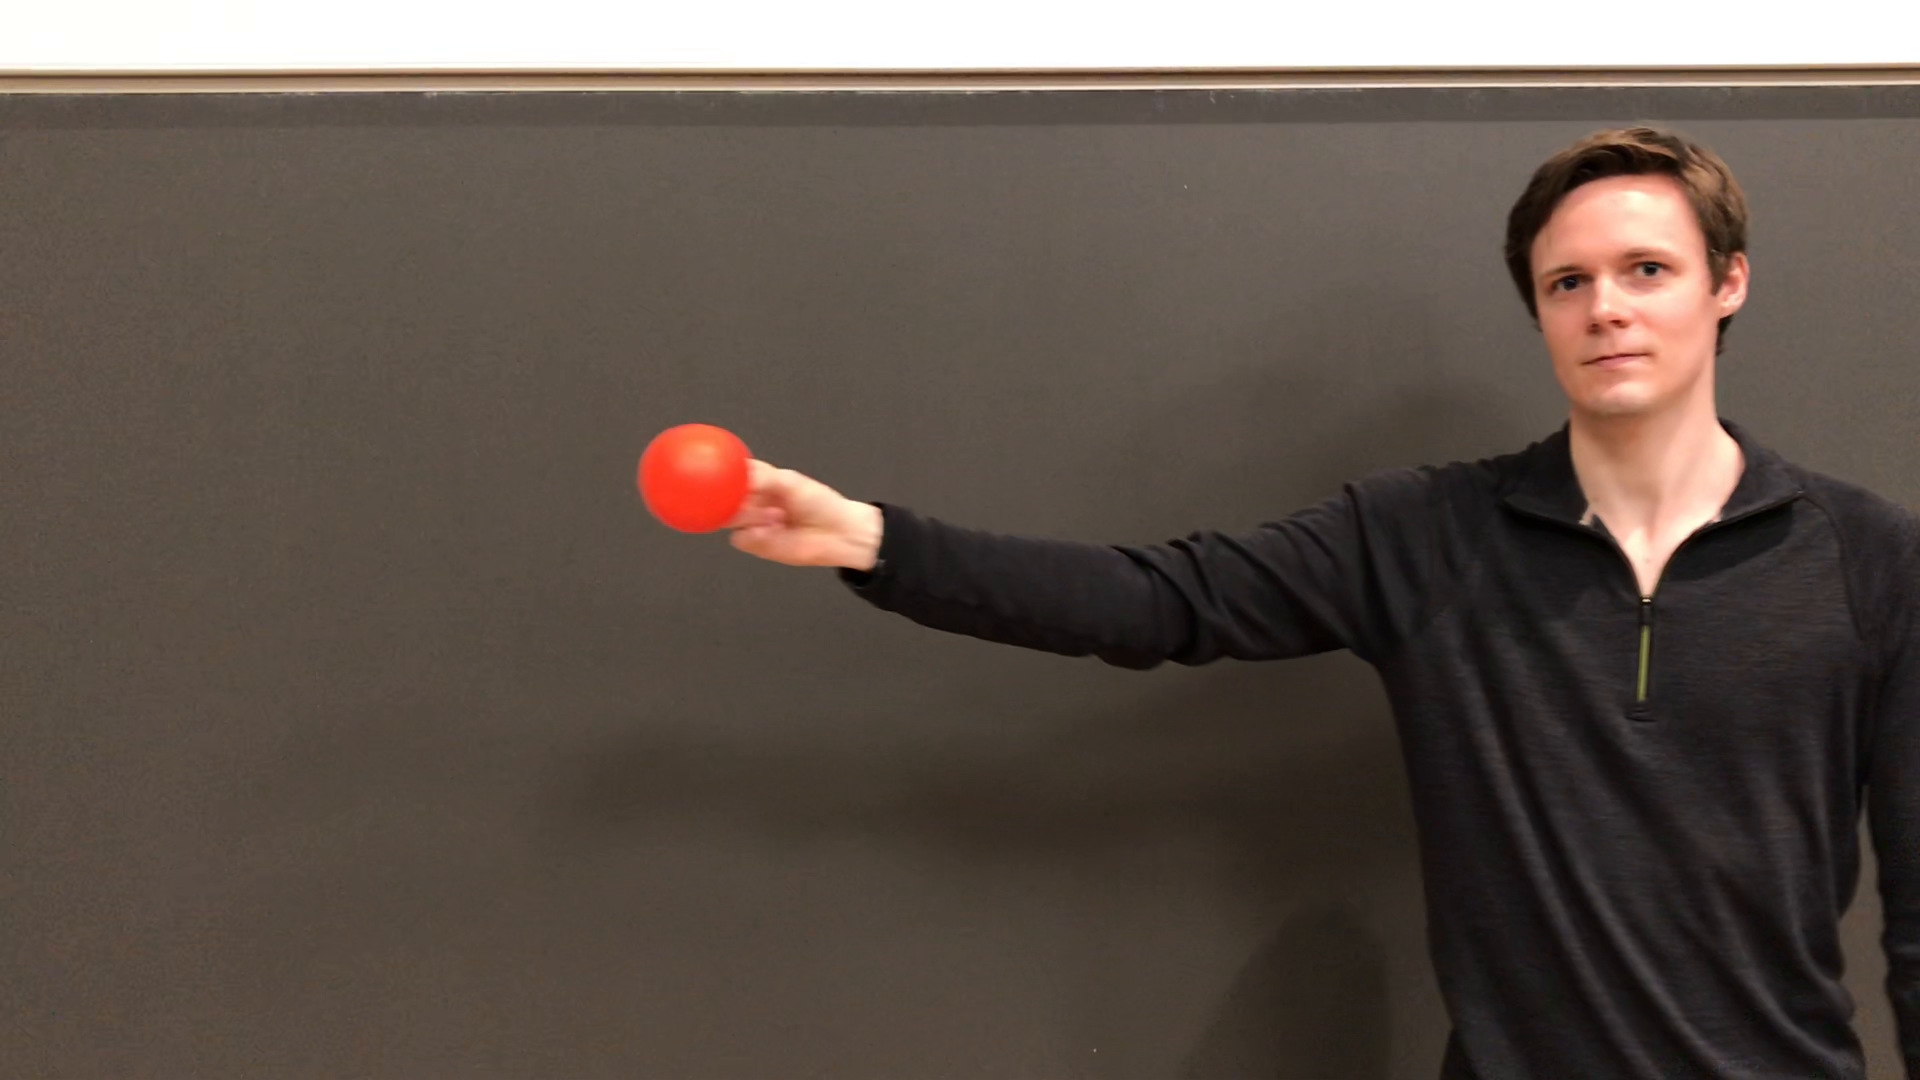Ball: (638, 423, 769, 542)
